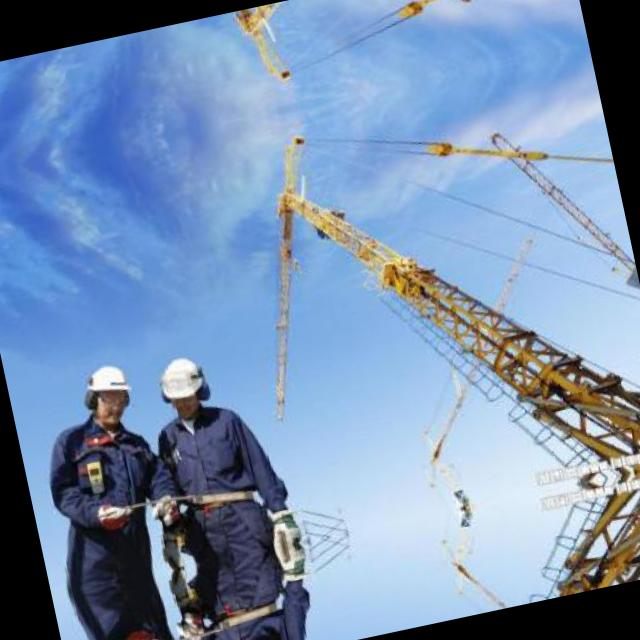helmet: (69, 348, 140, 436), (148, 342, 217, 422)
